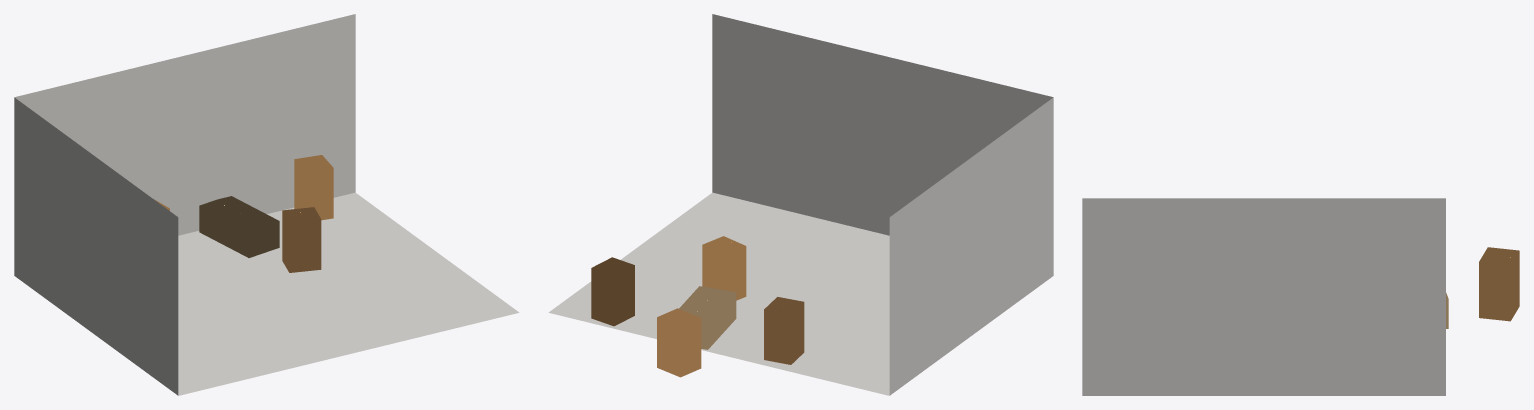
3 views of the same model, side by side, from view 1: azimuth 30°, elevation 25°; view 2: azimuth 150°, elevation 25°; view 3: azimuth 270°, elevation 25° (orthographic). The views are drawn at different scales.
Visible parts, largest first — view 1: Room, coffee_table_mesh, dining_chair_3_mesh, dining_chair_0_mesh; view 2: Room, dining_chair_2_mesh, dining_chair_0_mesh, dining_chair_1_mesh, dining_chair_3_mesh, coffee_table_mesh; view 3: Room, dining_chair_2_mesh.
Boxes of the visible parts, left/top/right/bottom form: Room: left=14, top=14, right=519, bottom=395; coffee_table_mesh: left=199, top=196, right=279, bottom=257; dining_chair_3_mesh: left=282, top=207, right=321, bottom=272; dining_chair_0_mesh: left=294, top=155, right=333, bottom=220; Room: left=548, top=14, right=1053, bottom=395; dining_chair_2_mesh: left=657, top=308, right=701, bottom=377; dining_chair_0_mesh: left=591, top=257, right=634, bottom=326; dining_chair_1_mesh: left=764, top=297, right=804, bottom=364; dining_chair_3_mesh: left=702, top=236, right=746, bottom=300; coffee_table_mesh: left=679, top=286, right=736, bottom=349; Room: left=1082, top=198, right=1445, bottom=395; dining_chair_2_mesh: left=1479, top=247, right=1519, bottom=321.
Bounding box in the file's own units: 6 × 3 × 6.01.
